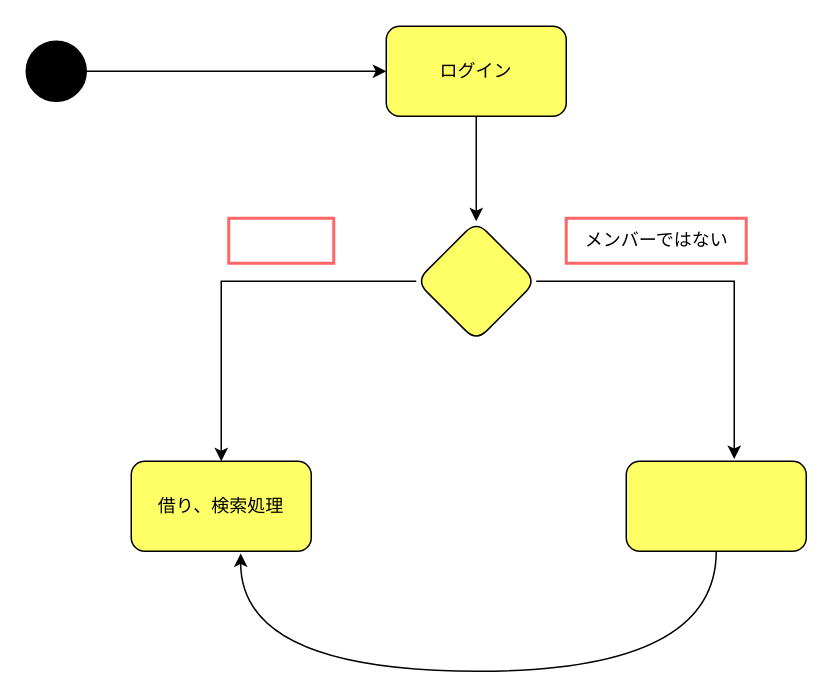
The diagram is 833 pixels wide and 698 high, and some of its shapes have lost their labels. The centre of each missing label's shape, as x and y in pixels:
メンバー: the point at 280,240
登録: the point at 715,505
